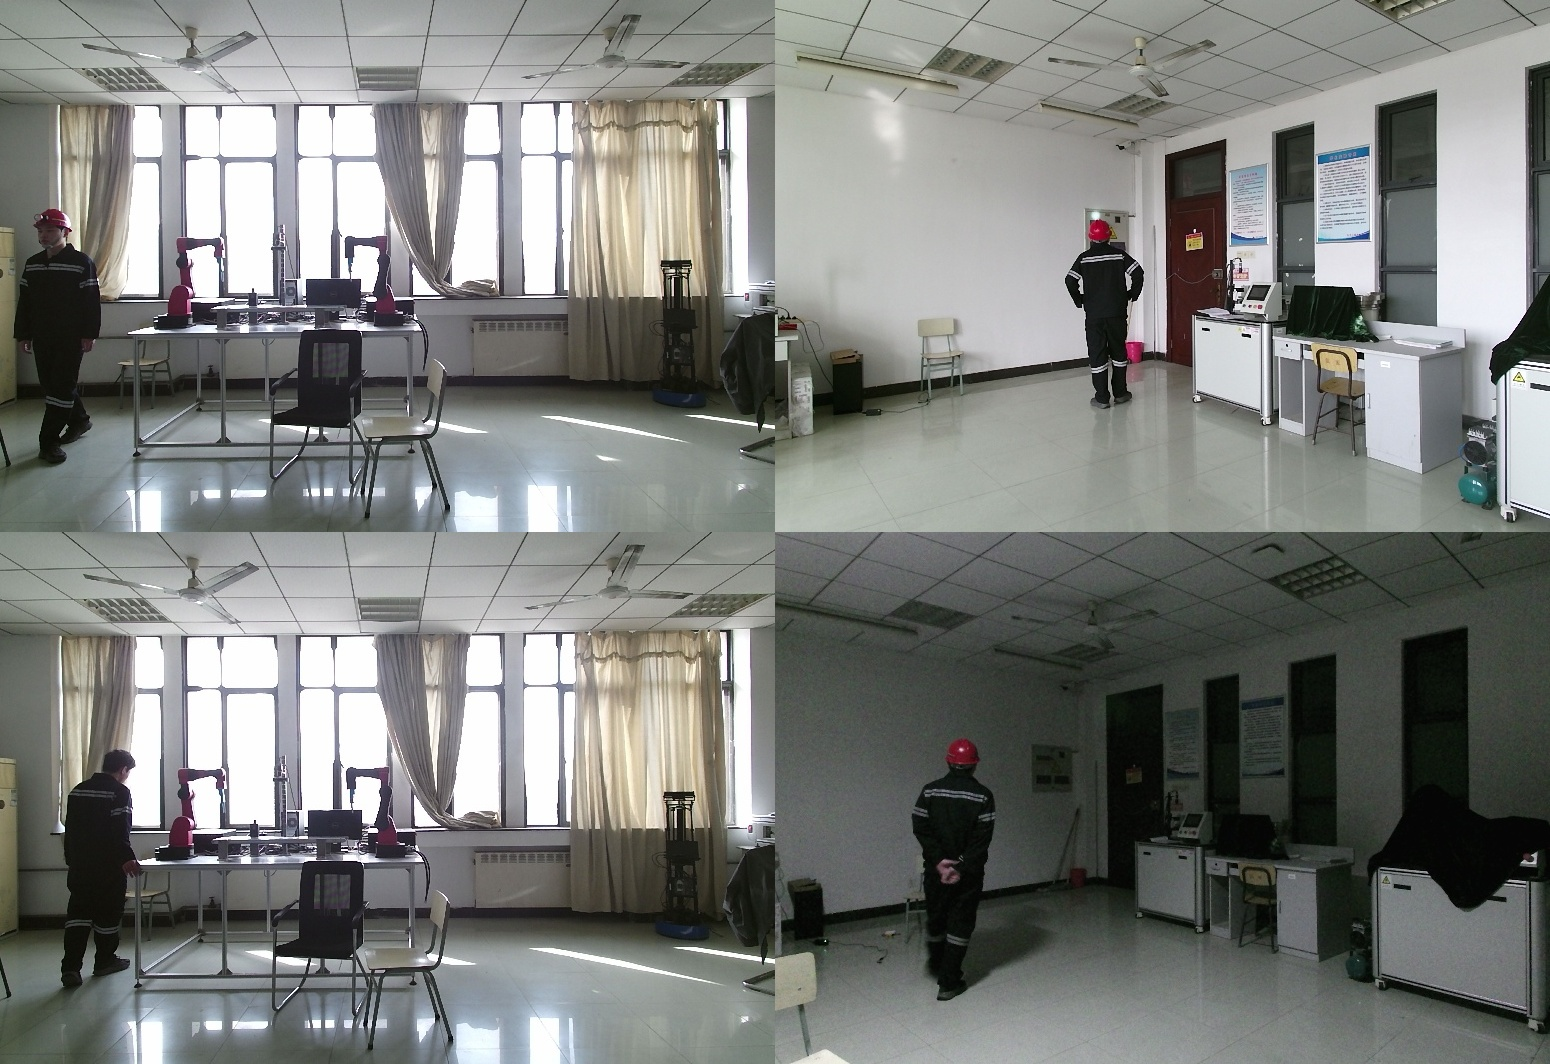person: (860, 740, 1049, 1000), (9, 207, 106, 465), (56, 749, 143, 985), (1065, 221, 1149, 420)
